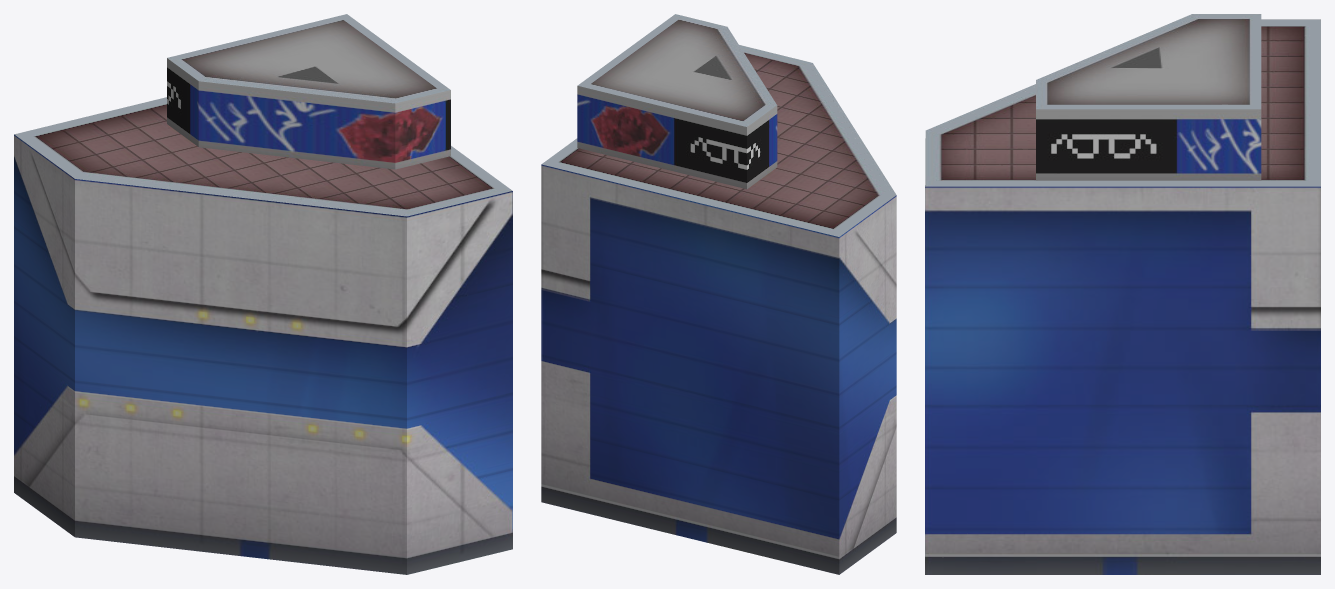
Rendered from House_25(2).FBX.
3 views of the same model, side by side, from view 1: azimuth 30°, elevation 25°; view 2: azimuth 150°, elevation 25°; view 3: azimuth 270°, elevation 25° (orthographic). The views are drawn at different scales.
Visible parts, largest first — view 1: House_25; view 2: House_25; view 3: House_25.
Boxes of the visible parts, x1=… form: House_25: x1=14, y1=14, x2=512, y2=574; House_25: x1=541, y1=14, x2=896, y2=574; House_25: x1=925, y1=14, x2=1320, y2=574.
Size of the model in its own units: 30 by 38.48 by 30.
1 material, 1 textured.
